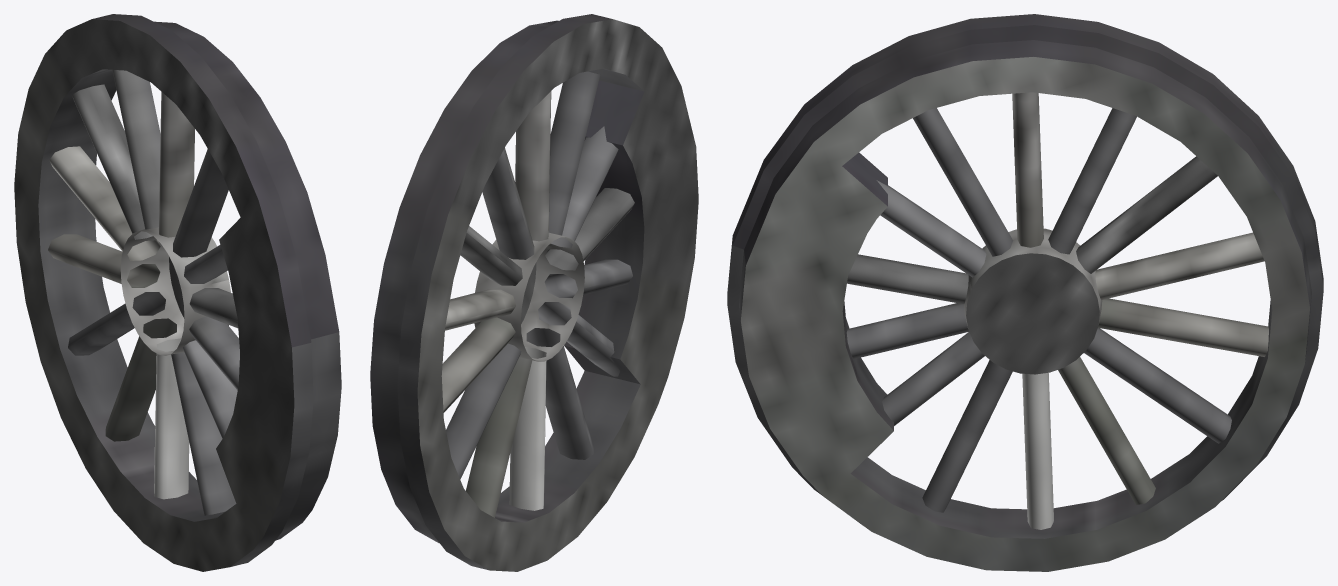
The model's file is RuedaIzq4.obj.
3 renders of one model, left to right at view 1: azimuth 30°, elevation 25°; view 2: azimuth 150°, elevation 25°; view 3: azimuth 270°, elevation 25°, orthographic. The views are drawn at different scales.
Parts seen in each view (by area): view 1: RiedaIzq4; view 2: RiedaIzq4; view 3: RiedaIzq4.
Boxes of the visible parts, left/top/right/bottom form: RiedaIzq4: left=14, top=14, right=341, bottom=571; RiedaIzq4: left=370, top=14, right=698, bottom=571; RiedaIzq4: left=727, top=14, right=1323, bottom=571.
Size of the model in its own units: 0.0446 by 0.39 by 0.3867.
1 material, 1 textured.
